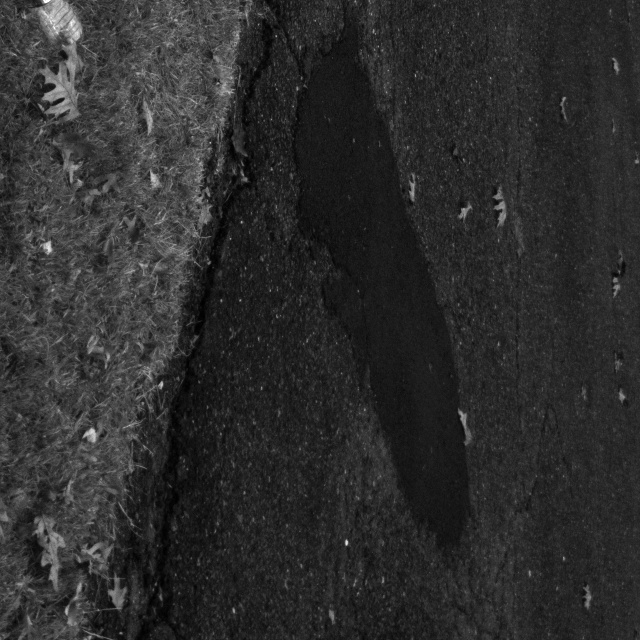bottle: (12, 0, 100, 66)
